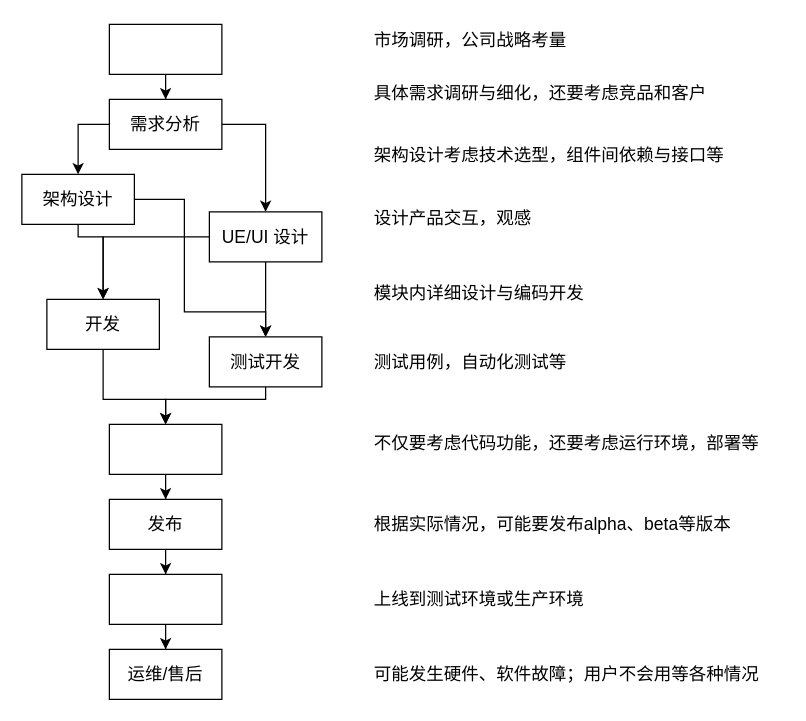
Some shapes in this 806 by 721 pixel diagram are drawn without their labels. The shapes that lost their labels are listed below. From the top down, each one's centre as x and y in pixels, then its label:
At (x=165, y=48): "项目立项".
At (x=165, y=448): "测试".
At (x=165, y=598): "上线".
